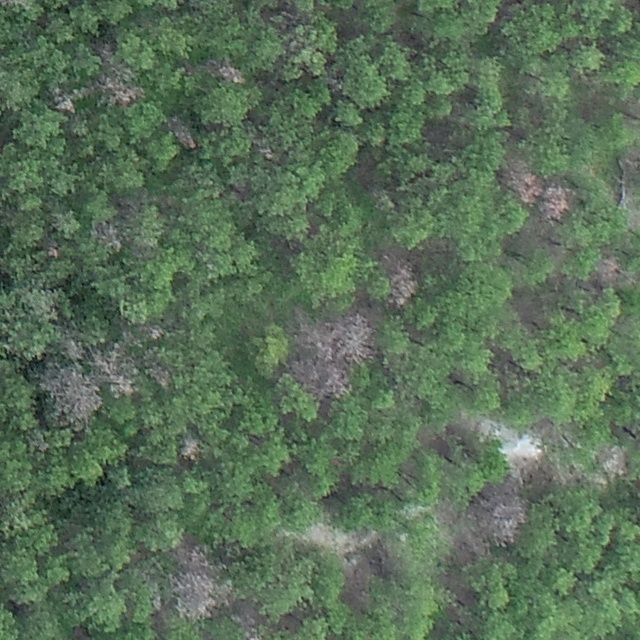unhealthy: (294, 307, 378, 362), (39, 366, 101, 425), (480, 486, 528, 545), (170, 570, 220, 620), (89, 344, 138, 395), (381, 247, 418, 309), (498, 163, 542, 205), (307, 360, 348, 400), (342, 553, 376, 598), (540, 182, 574, 222), (173, 539, 214, 572), (48, 82, 90, 113), (451, 527, 488, 562), (99, 78, 143, 106), (165, 115, 198, 152), (91, 219, 124, 252), (598, 443, 629, 477), (204, 59, 244, 84), (616, 142, 639, 182), (57, 334, 86, 361), (145, 363, 174, 389), (596, 255, 622, 284), (133, 321, 166, 342), (235, 604, 260, 630), (177, 435, 199, 463), (240, 628, 264, 639), (45, 243, 60, 259)
